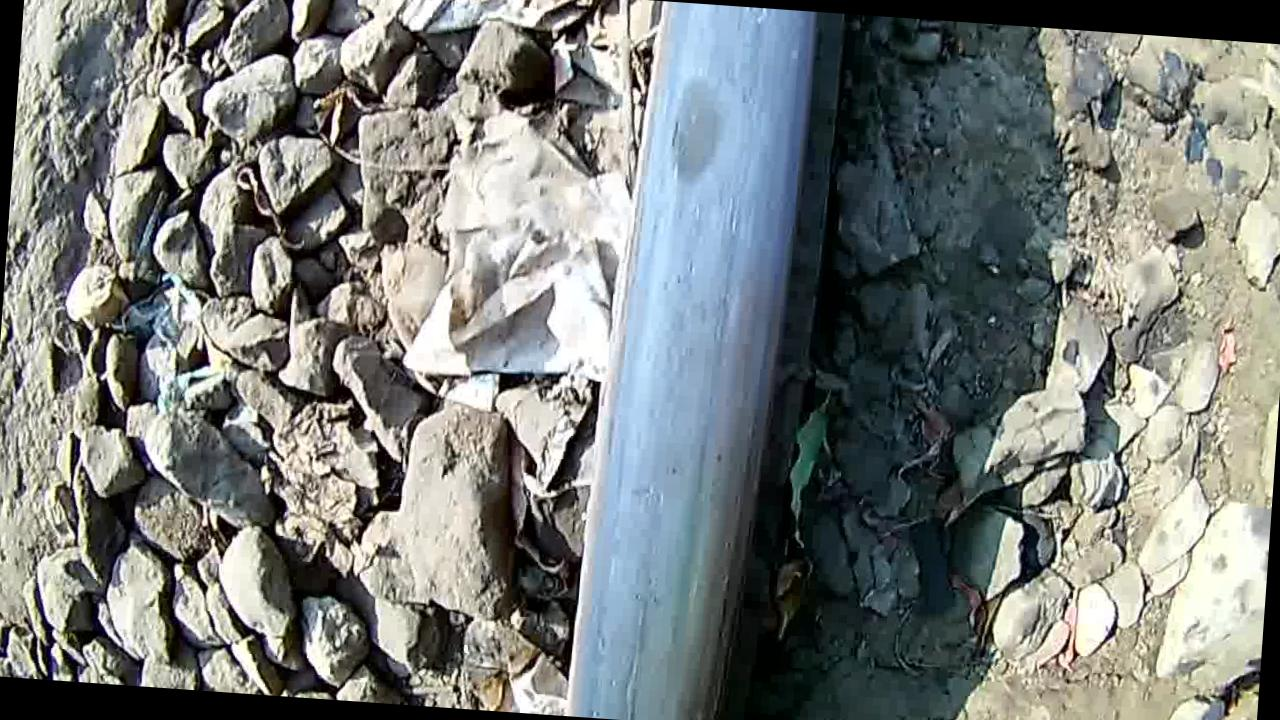bolt_missing: (626, 28, 799, 260)
